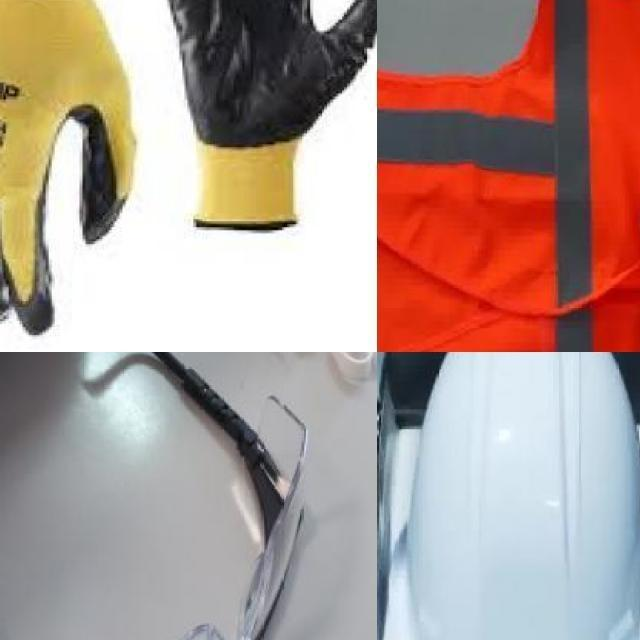apron: (142, 0, 377, 249), (0, 0, 143, 335)
